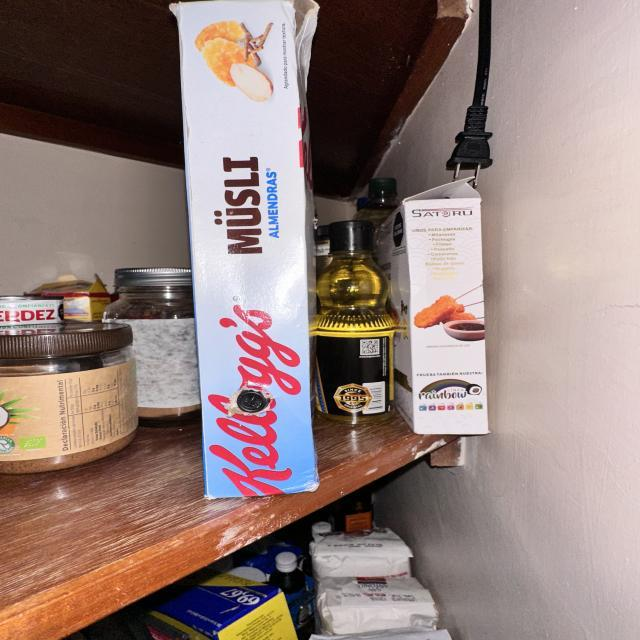hidden camera: (236, 390, 265, 413)
